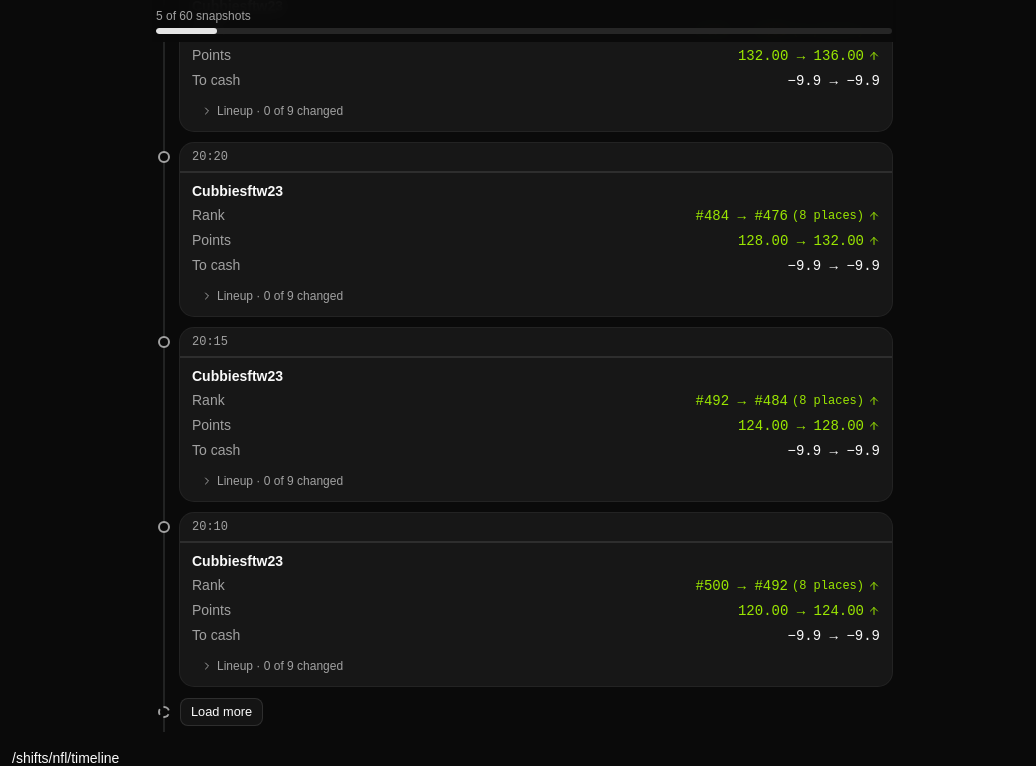
it: the Timeline tab › range and Load more › shows an alert and keeps Load more usable when loading fails
(page scrolled)
Step 1. Click the button "Load more" → click(222, 712), box [180,698,263,726]
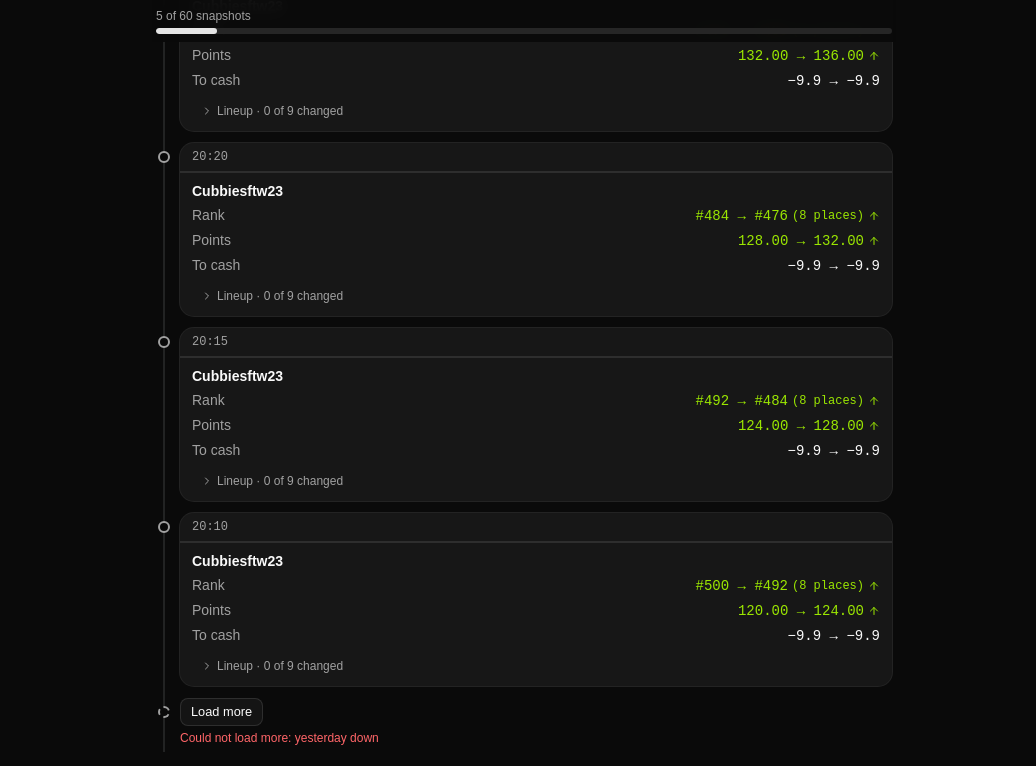
Check: the message shows "yesterday down", box [295,731,379,745]
Step 2. Click the button "Load more" → click(222, 712), box [180,698,263,726]
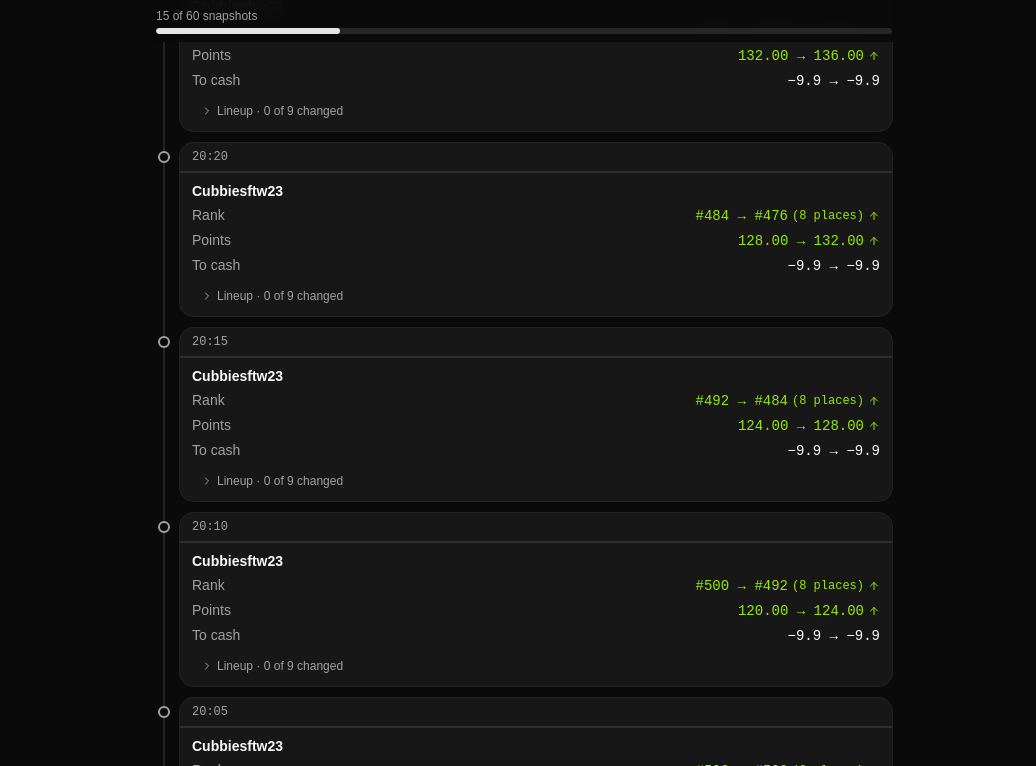
Check: the message "Could not load more: yesterday down" is gone
